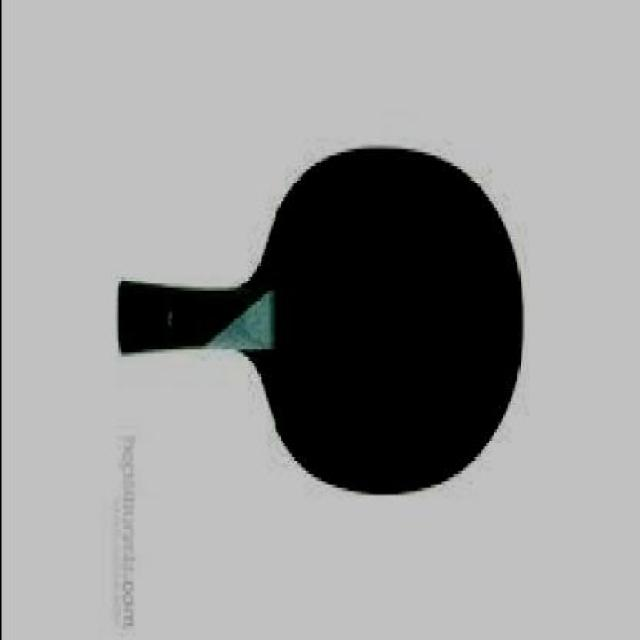table_tennis_racket: (240, 143, 523, 502)
